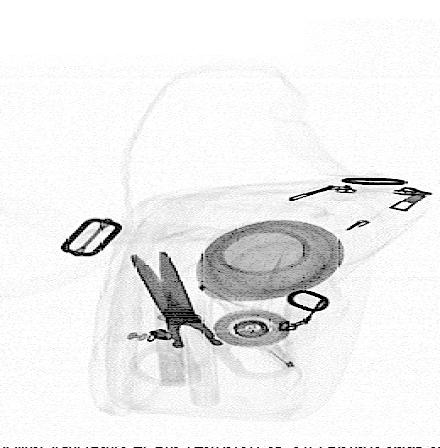Scissors: (123, 248, 301, 388)
